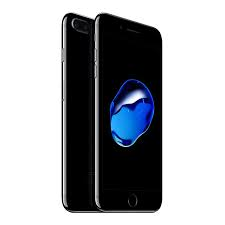iphone: (93, 9, 163, 213)
iphone7: (93, 10, 163, 214)
